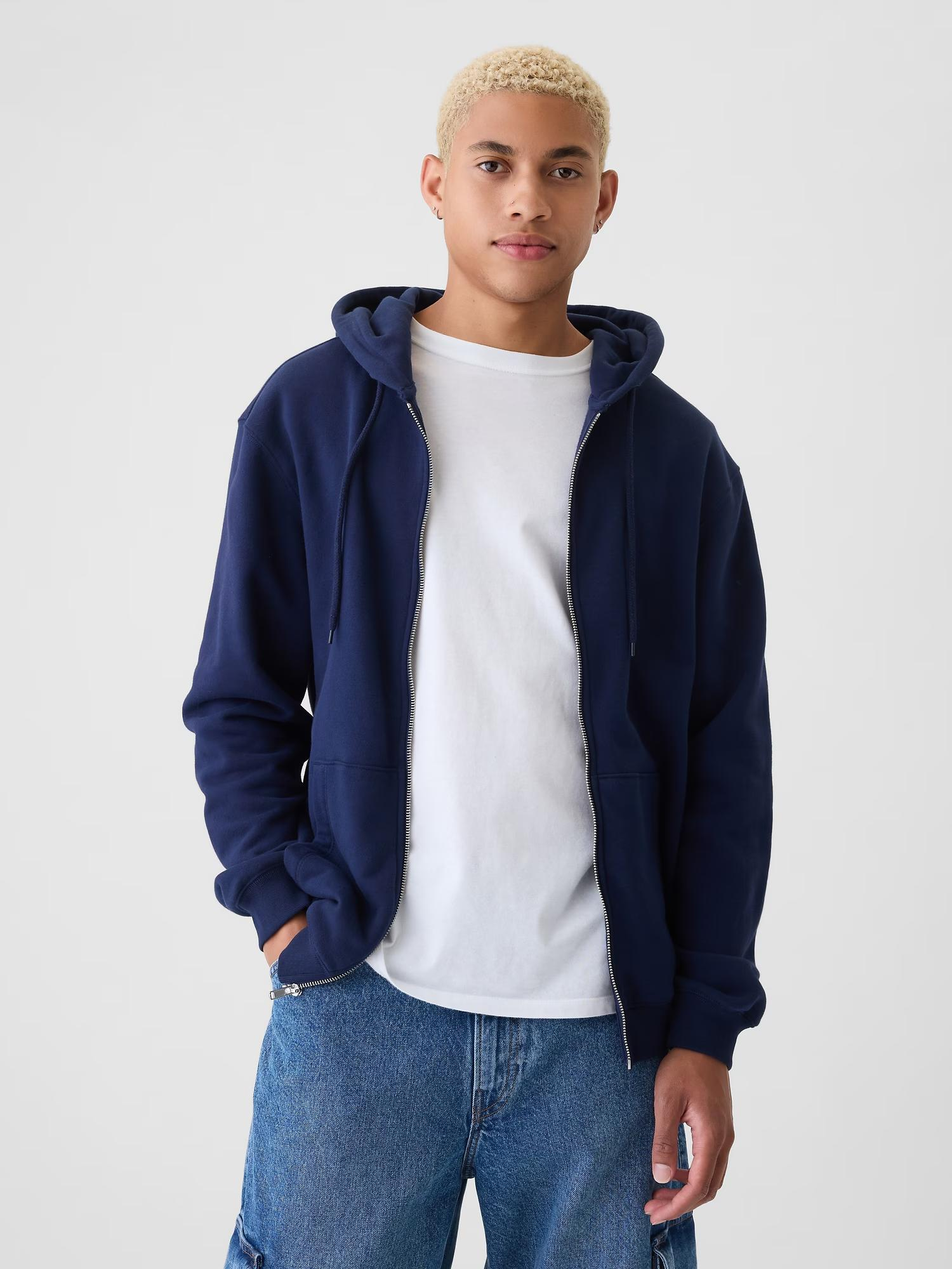short sleeve shirt: (362, 311, 639, 1028)
sweater: (172, 280, 778, 1083)
trousers: (218, 964, 701, 1269)
